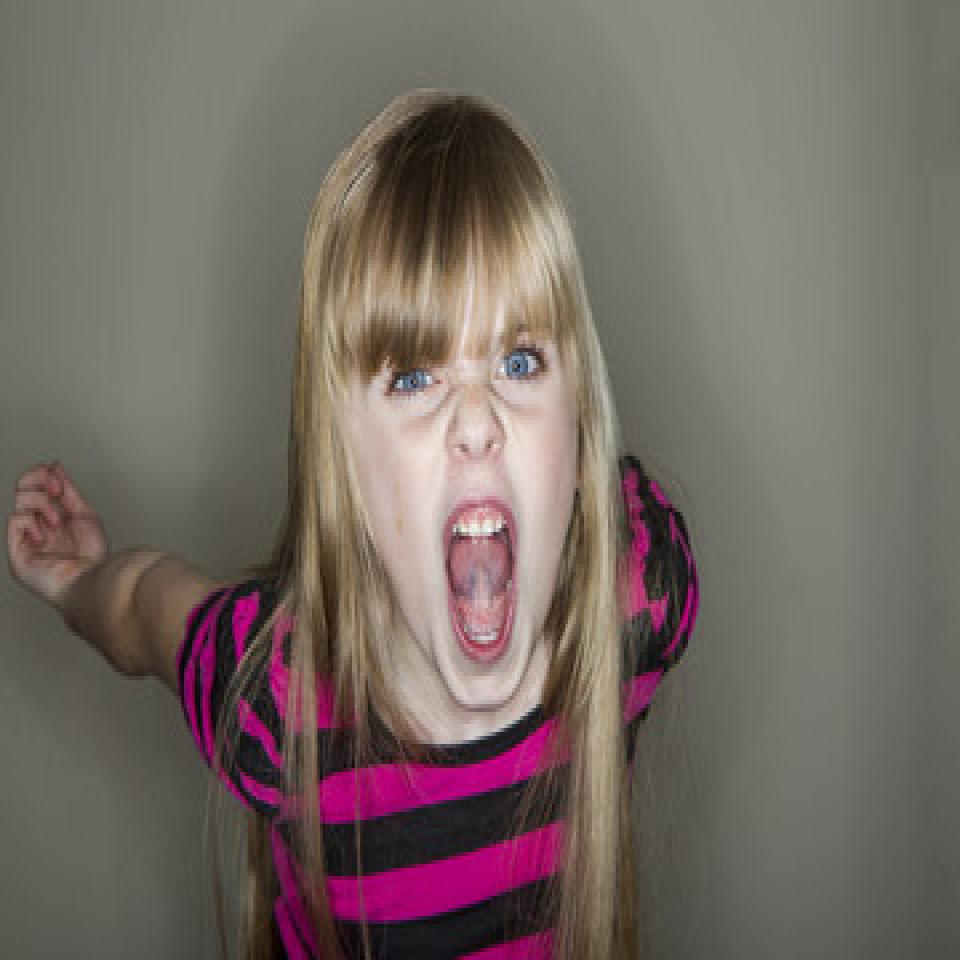Anger: (353, 308, 582, 685)
